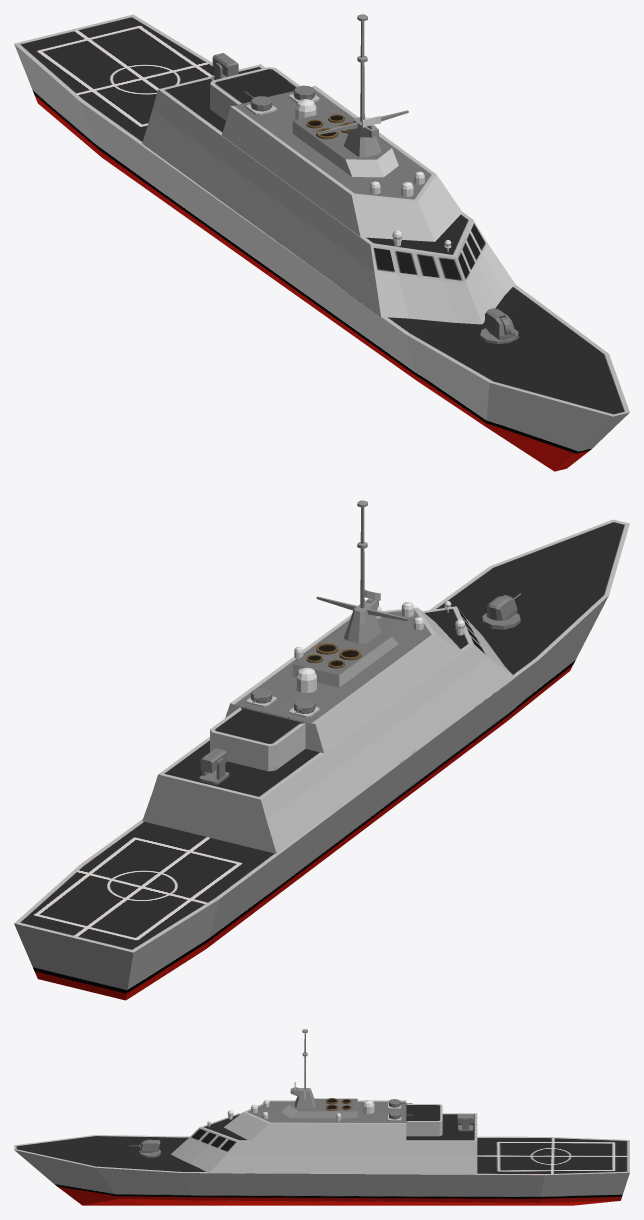
The picture shows the model from 3 angles, top to bottom: view 1: azimuth 30°, elevation 25°; view 2: azimuth 150°, elevation 25°; view 3: azimuth 270°, elevation 25°; orthographic projection. The views are drawn at different scales.
Parts seen in each view (by area): view 1: Cube, Cylinder, Cube.002; view 2: Cube, Cylinder; view 3: Cube, Cylinder.
Part boxes in pixels (<box>): Cube: <box>14,14,629,471</box>; Cylinder: <box>295,99,451,251</box>; Cube.002: <box>484,308,515,340</box>; Cube: <box>14,500,629,1000</box>; Cylinder: <box>294,601,465,692</box>; Cube: <box>14,1029,629,1205</box>; Cylinder: <box>207,1100,374,1127</box>.
Size of the model in its own units: 58.34 by 123 by 395.
Materials: 3 (1 with a texture image).
